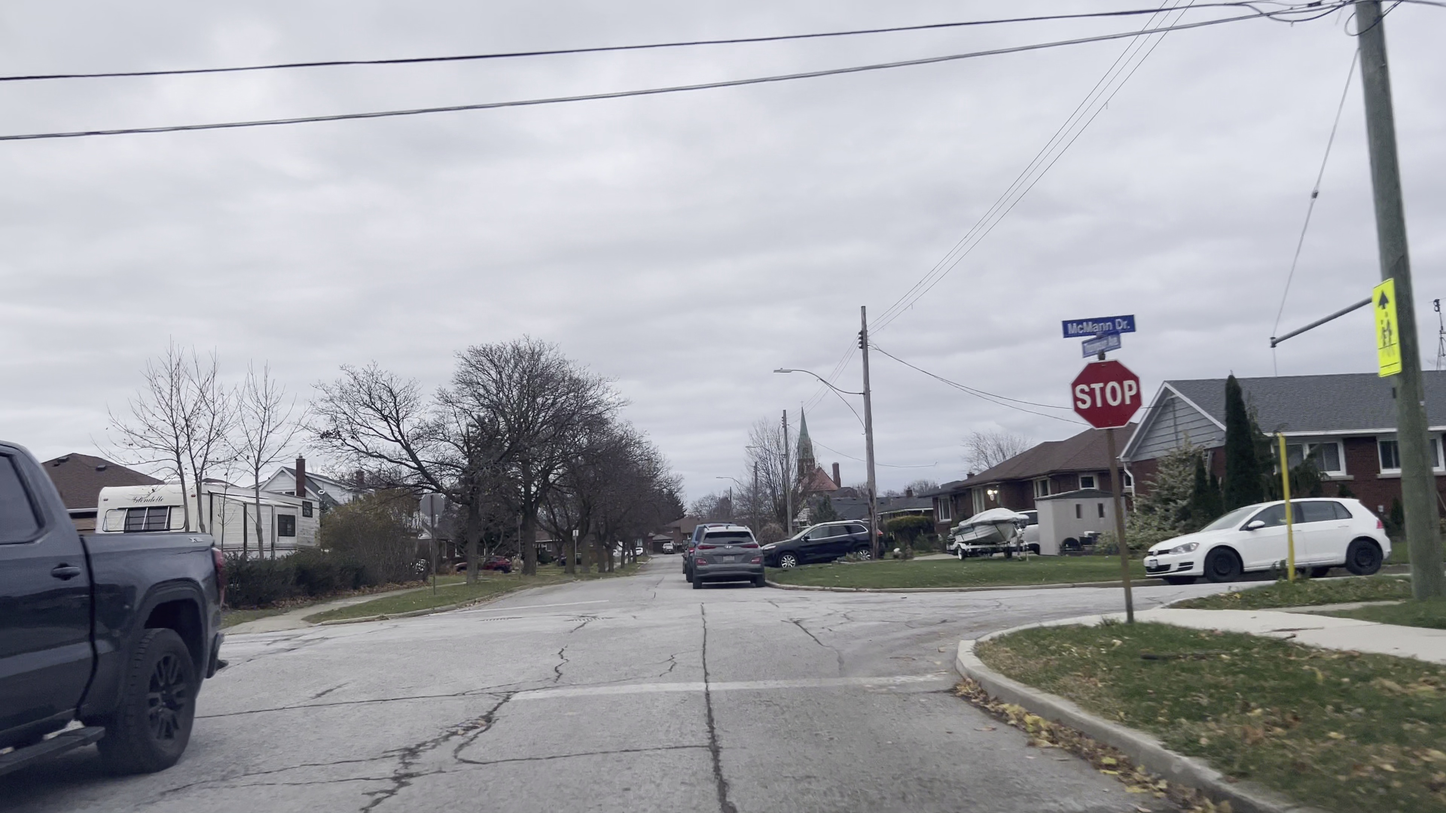cracks: (688, 691, 742, 813), (411, 713, 505, 772), (348, 757, 423, 809), (690, 594, 715, 678), (537, 639, 562, 699)
